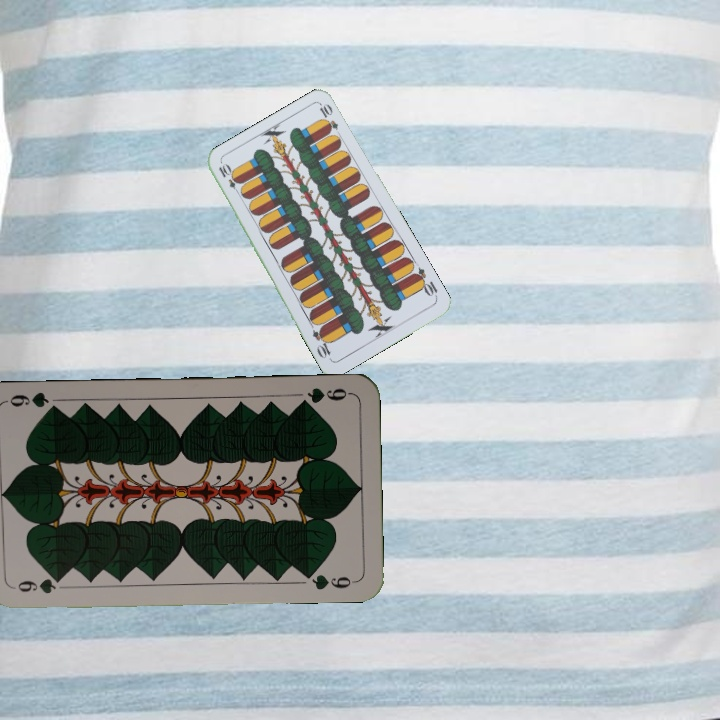E10: (409, 264, 440, 301), (214, 160, 244, 198)
G9: (295, 383, 353, 409), (9, 573, 66, 597)
